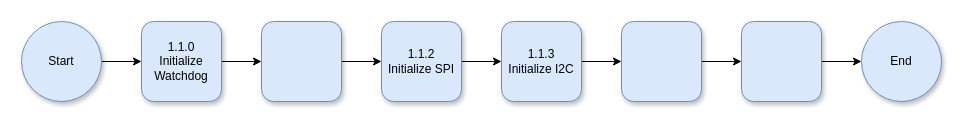
The diagram is 965 pixels wide and 126 high, and some of its shapes have lost their labels. Here are the shapes that lost their labels. From the top down, the centre of each, then its label:
At point (302, 62): "1.1.1 Initialize UART at 8N1 57600 baud".
At point (662, 62): "1.1.4 Initialize Timer PWM Compare Pins".
At point (782, 62): "Enable Interupts".
